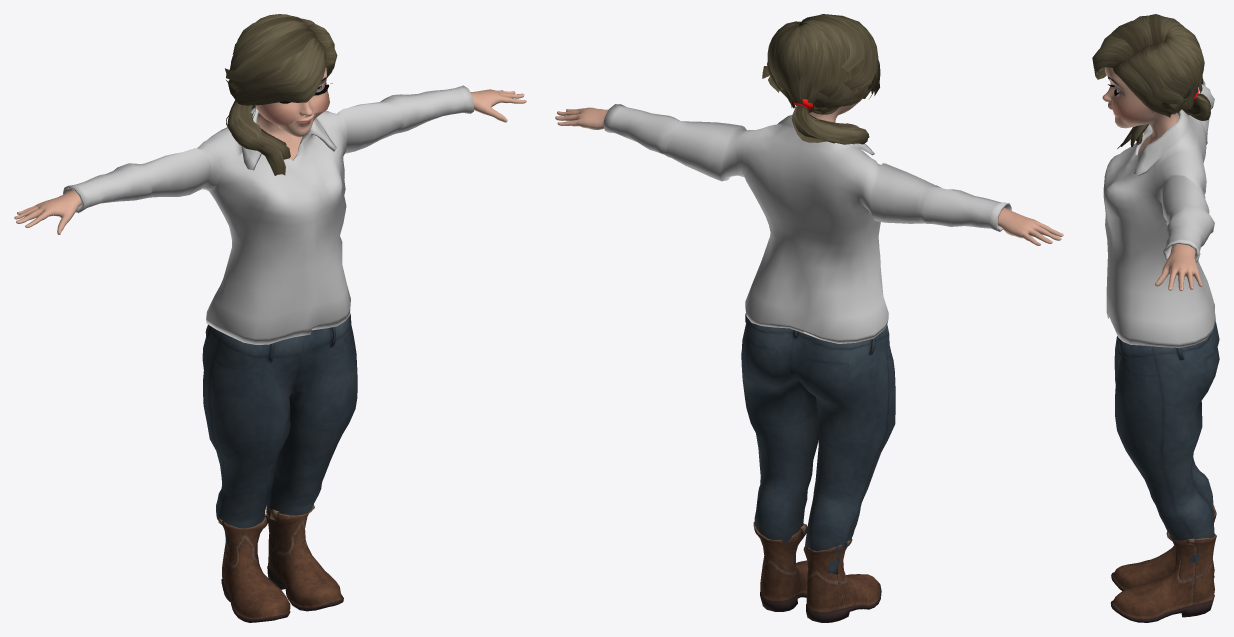
Rendered from Alienada.obj.
3 renders of one model, left to right at view 1: azimuth 30°, elevation 25°; view 2: azimuth 150°, elevation 25°; view 3: azimuth 270°, elevation 25°, orthographic.
Parts seen in each view (by area): view 1: Tops, Bottoms, Hair, Shoes, Body; view 2: Tops, Bottoms, Hair, Shoes, Body; view 3: Tops, Bottoms, Hair, Shoes, Body.
Boxes of the visible parts, left/top/right/bottom form: Tops: left=63, top=85, right=473, bottom=344; Bottoms: left=202, top=313, right=357, bottom=550; Hair: left=225, top=14, right=337, bottom=175; Shoes: left=216, top=504, right=343, bottom=622; Body: left=14, top=67, right=526, bottom=234; Tops: left=603, top=104, right=1011, bottom=343; Bottoms: left=741, top=313, right=895, bottom=574; Hair: left=762, top=14, right=880, bottom=144; Shoes: left=753, top=522, right=881, bottom=622; Body: left=555, top=98, right=1063, bottom=245; Tops: left=1103, top=79, right=1215, bottom=347; Bottoms: left=1114, top=321, right=1219, bottom=564; Hair: left=1092, top=14, right=1210, bottom=148; Shoes: left=1110, top=506, right=1216, bottom=622; Body: left=1102, top=67, right=1202, bottom=291.
Size of the model in its own units: 129 by 143 by 28.5.
